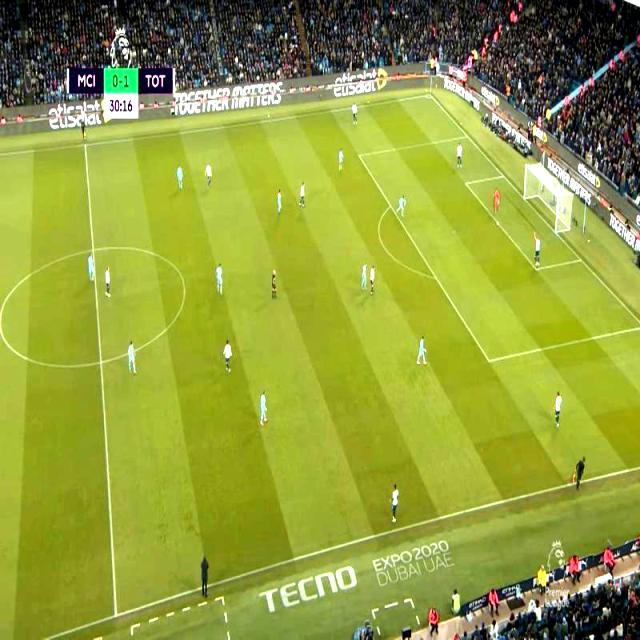bigarea_bottom_inner: (484, 354, 496, 367)
bigarea_top_inner: (354, 150, 364, 160)
bigarea_top_outter: (463, 131, 474, 143)
bottom_arc_area_intersection: (430, 272, 443, 286)
corner: (424, 89, 436, 101)
halfcircle_bottom: (93, 354, 107, 368)
halfcircle_top: (86, 243, 100, 256)
midline_bottom_intersection: (109, 607, 122, 623)
midline_top_intersection: (77, 138, 89, 150)
smallarea_bottom_inner: (530, 260, 542, 274)
smallarea_bottom_outter: (576, 253, 589, 267)
smallarea_top_inner: (460, 177, 470, 188)
smallarea_top_outter: (498, 172, 512, 184)
top_arc_area_intersection: (384, 201, 395, 213)
